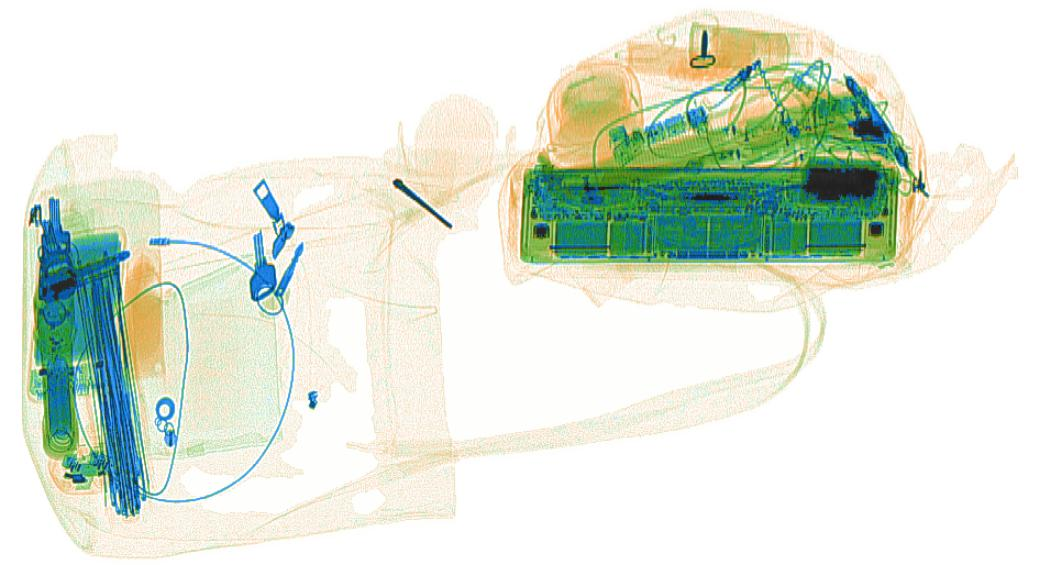battery: (44, 355, 74, 440)
